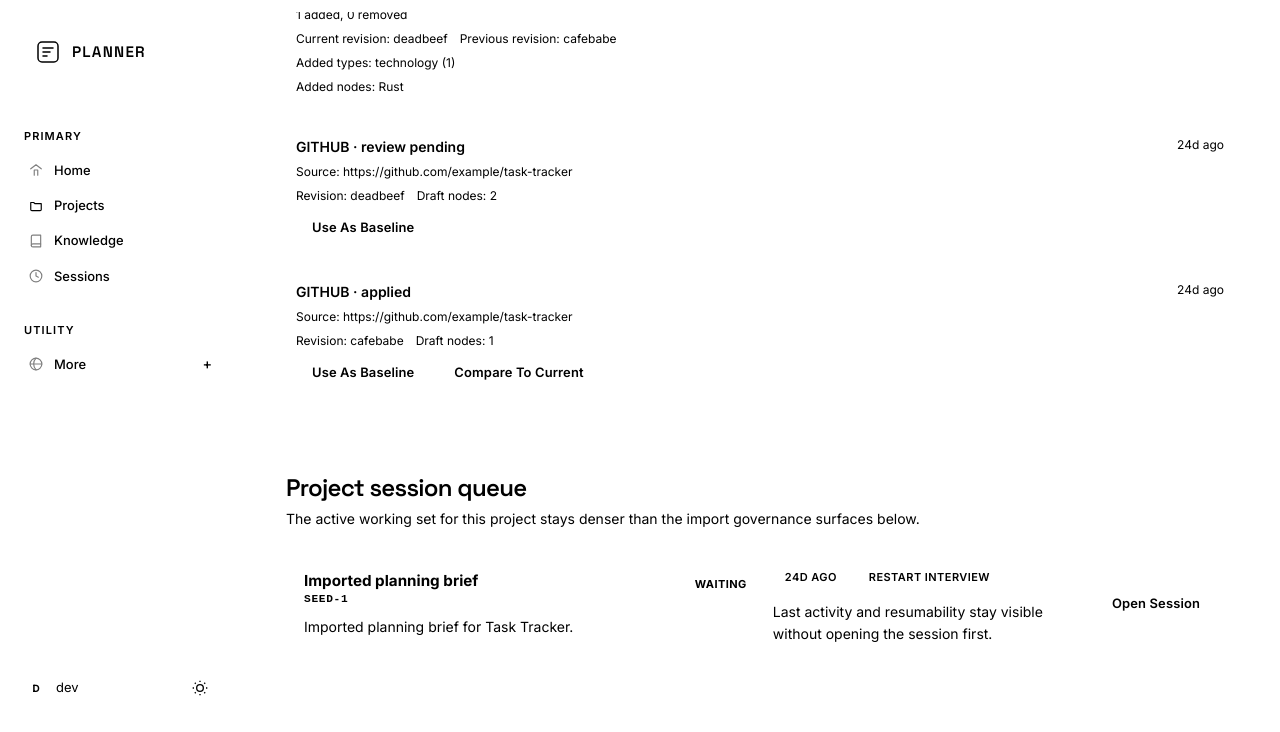
Test: ProjectSessionsPage import review › compares a historical import entry to the current state
(page scrolled)
Click the button "Compare To Current" at (519, 372), box [438,356,600,389]
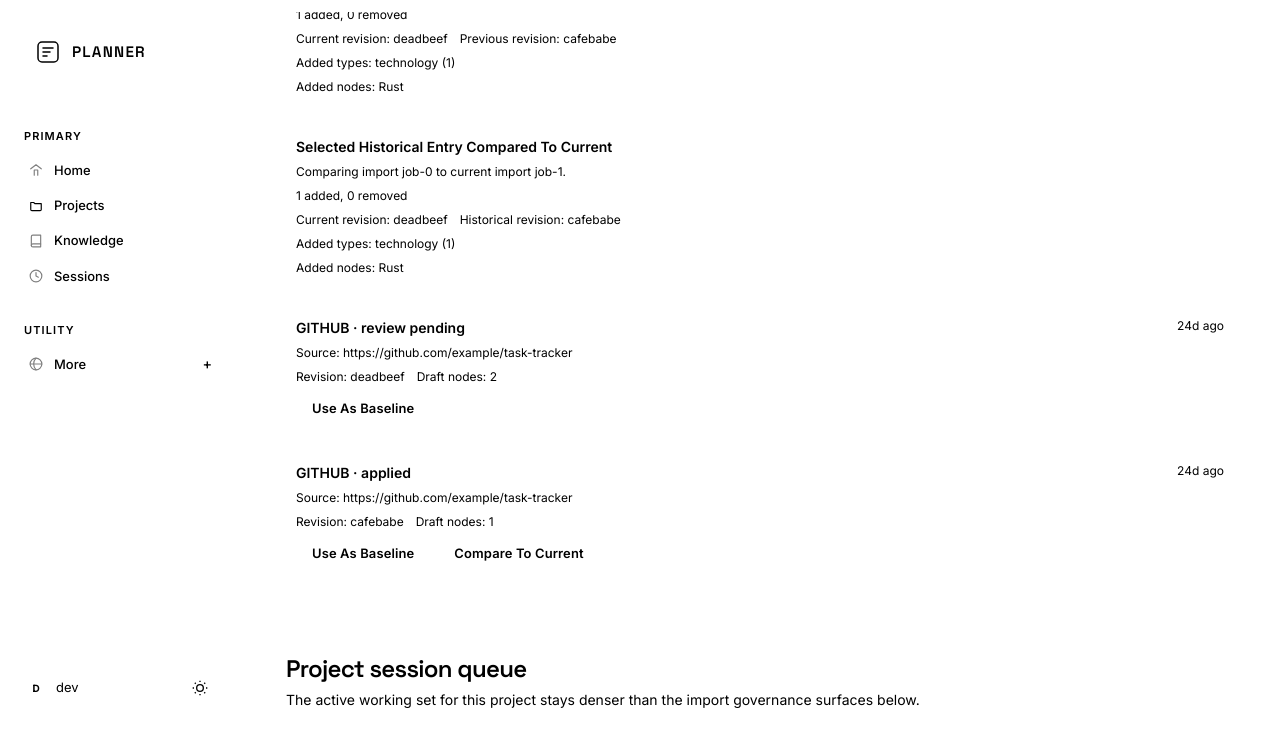
Expected: the text "Added nodes: Rust" below "Previous revision:" is shown, [296,79,404,94]
Expected: the text "Selected Historical Entry Compared To Current" is shown, [296,138,612,155]
Expected: the text "Comparing import job-0 to current import job-1." is shown, [296,164,566,179]
